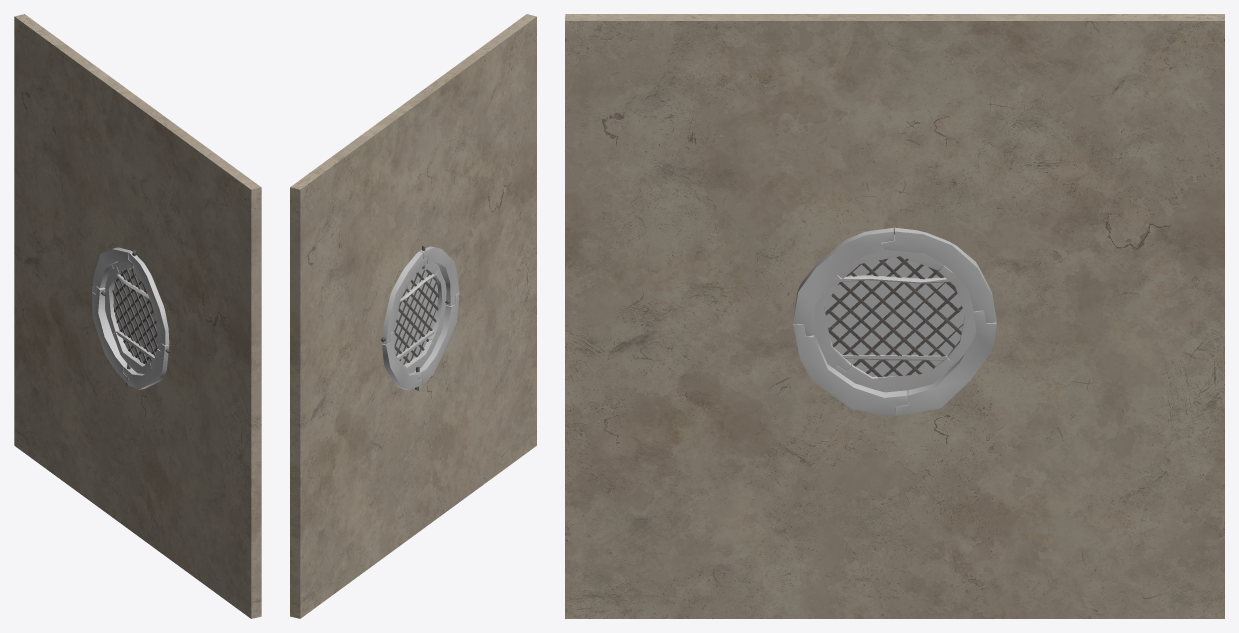
File: SM_Wall_Window_03.fbx
3 views of the same model, side by side, from view 1: azimuth 30°, elevation 25°; view 2: azimuth 150°, elevation 25°; view 3: azimuth 270°, elevation 25° (orthographic). The views are drawn at different scales.
Visible parts, largest first — view 1: SM_Wall_Window_03_LOD0; view 2: SM_Wall_Window_03_LOD0; view 3: SM_Wall_Window_03_LOD0.
Part boxes in pixels (x1,y1,x2,y2): SM_Wall_Window_03_LOD0: [14, 14, 261, 618]; SM_Wall_Window_03_LOD0: [290, 14, 536, 618]; SM_Wall_Window_03_LOD0: [565, 14, 1224, 618].
Size of the model in its own units: 23.1 by 400 by 400.
